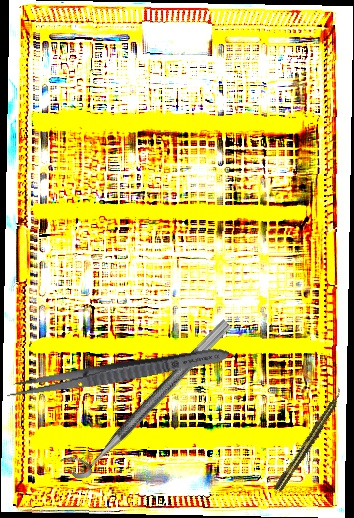Dressing Forceps: (4, 342, 231, 404)
Fixation Ring: (58, 305, 233, 485)
Handpiece: (271, 386, 348, 495)
